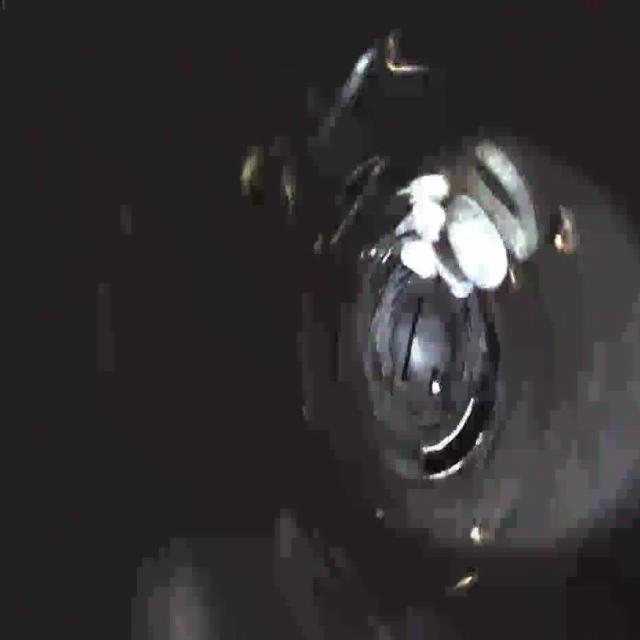hole: (414, 396, 496, 494)
